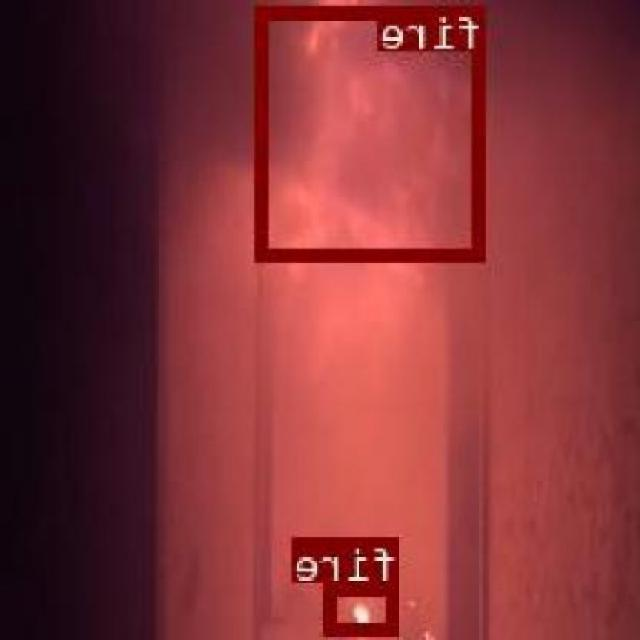Fire: (258, 4, 487, 260), (327, 580, 401, 634)
